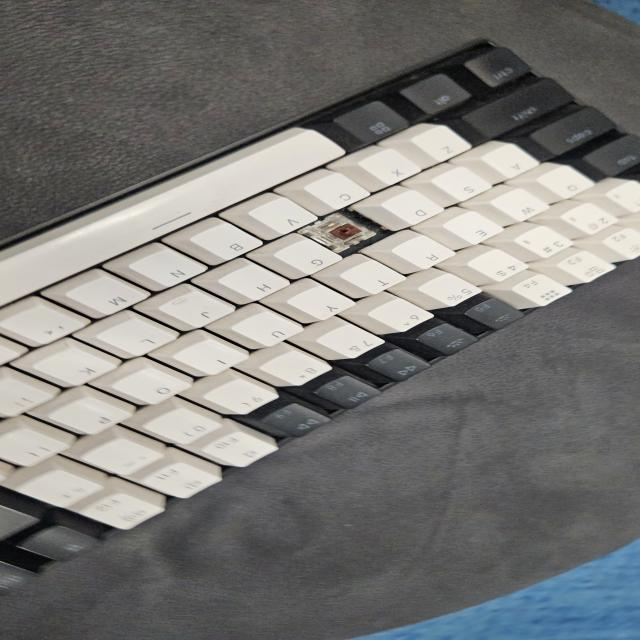C: (321, 217, 372, 247)
